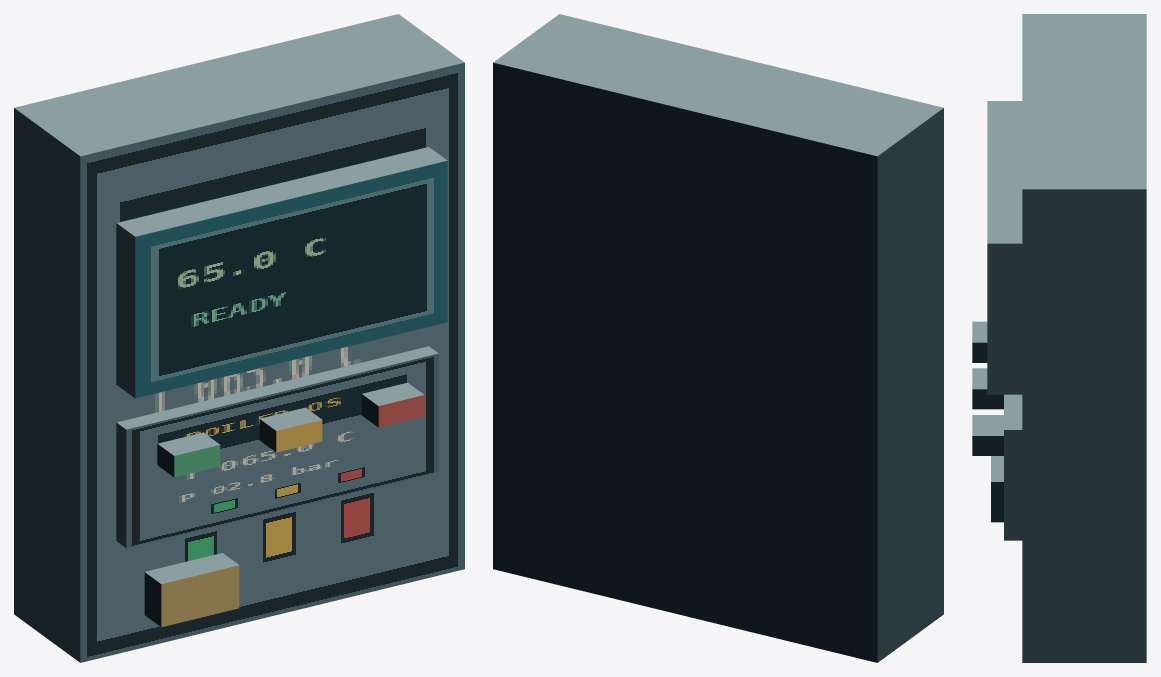
Rendered from panel_control_caldera.glb.
The picture shows the model from 3 angles, left to right: view 1: azimuth 30°, elevation 25°; view 2: azimuth 150°, elevation 25°; view 3: azimuth 270°, elevation 25°; orthographic projection. The views are drawn at different scales.
Parts seen in each view (by area): view 1: CALDERA_PROPS; view 2: CALDERA_PROPS; view 3: CALDERA_PROPS.
Part boxes in pixels (left/top/right/bottom): CALDERA_PROPS: left=14, top=14, right=464, bottom=662; CALDERA_PROPS: left=493, top=14, right=943, bottom=662; CALDERA_PROPS: left=972, top=14, right=1146, bottom=662.
Bounding box in the file's own units: 0.5121 × 0.6447 × 0.2149.
1 material, 1 textured.
